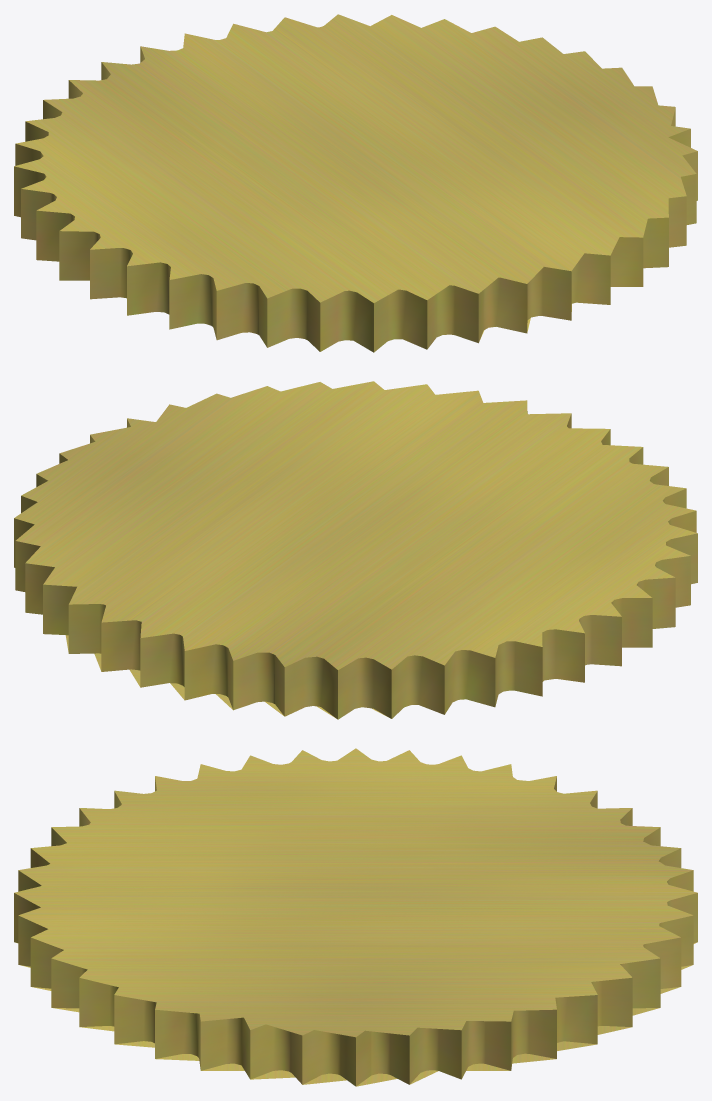
Rendered from Sprocket040.fbx.
The picture shows the model from 3 angles, top to bottom: view 1: azimuth 30°, elevation 25°; view 2: azimuth 150°, elevation 25°; view 3: azimuth 270°, elevation 25°; orthographic projection.
Visible parts, largest first — view 1: Sprocket040; view 2: Sprocket040; view 3: Sprocket040.
Part boxes in pixels (x1=…): Sprocket040: x1=14, y1=14, x2=697, y2=352; Sprocket040: x1=14, y1=381, x2=697, y2=719; Sprocket040: x1=14, y1=748, x2=697, y2=1086.
Bounding box in the file's own units: 247 × 19.69 × 247.
